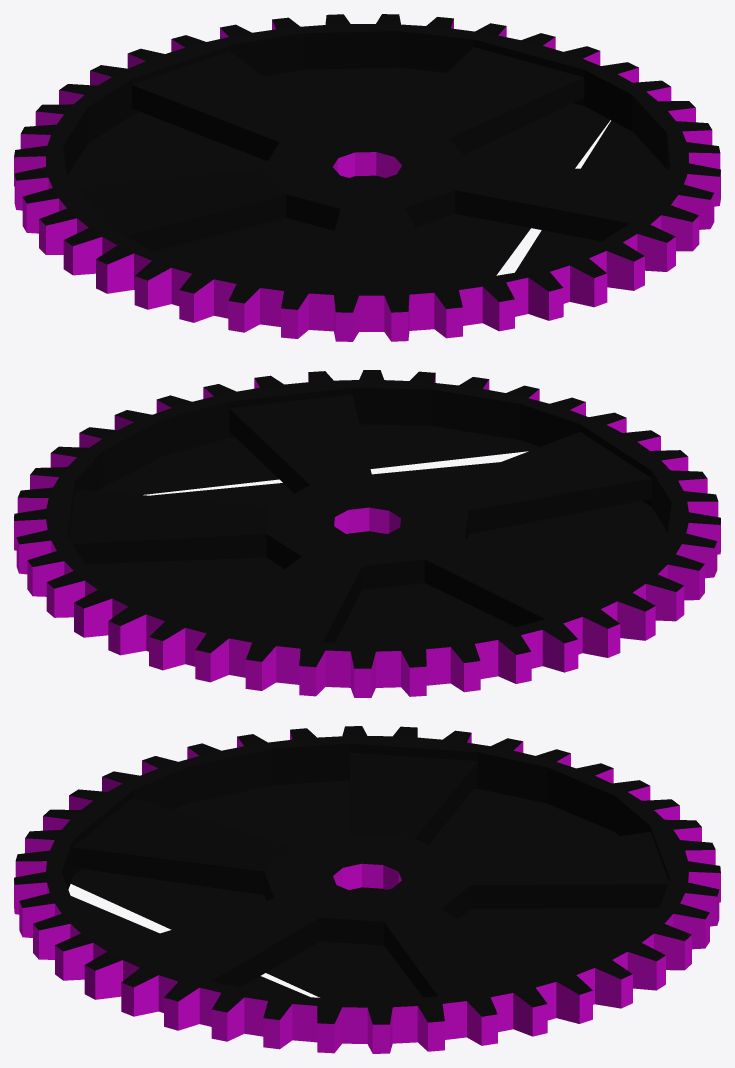
The model's file is D4GearV2.fbx.
The picture shows the model from 3 angles, top to bottom: view 1: azimuth 30°, elevation 25°; view 2: azimuth 150°, elevation 25°; view 3: azimuth 270°, elevation 25°; orthographic projection.
Parts seen in each view (by area): view 1: D4GearV2; view 2: D4GearV2; view 3: D4GearV2.
Boxes of the visible parts, x1,y1,x2,y2 form: D4GearV2: (14, 14, 720, 341); D4GearV2: (14, 370, 720, 697); D4GearV2: (14, 726, 720, 1053).
Size of the model in its own units: 8.8 by 0.5 by 8.8.
